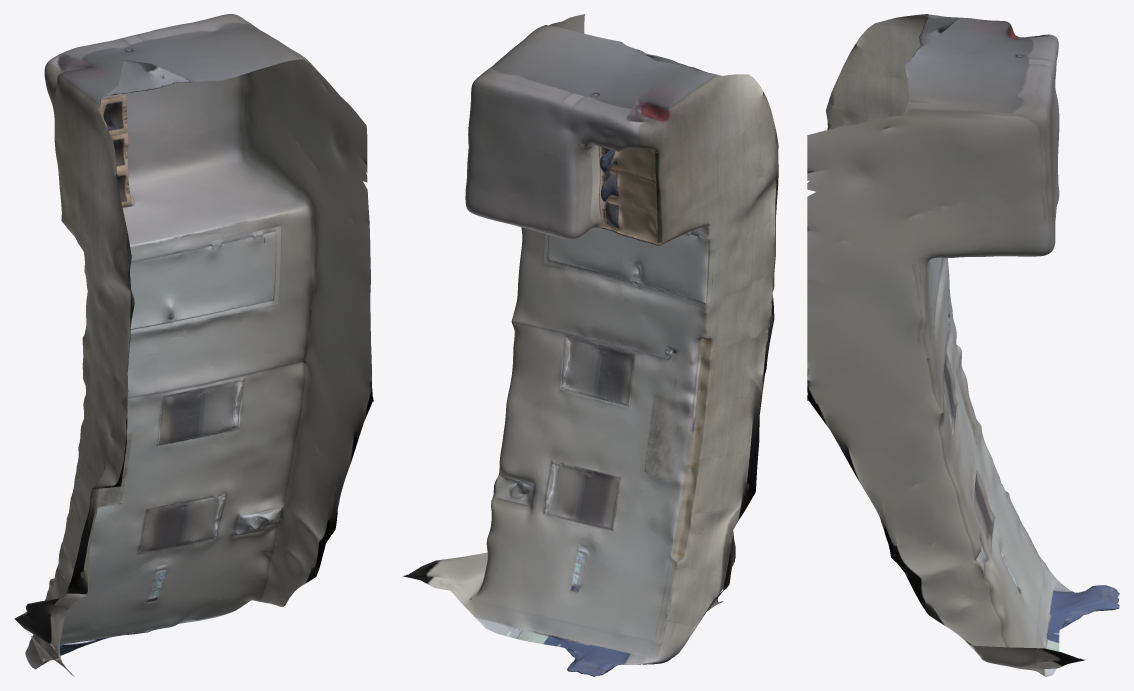
File: 엘베우측쓰레기통벽.fbx
The picture shows the model from 3 angles, left to right: view 1: azimuth 30°, elevation 25°; view 2: azimuth 150°, elevation 25°; view 3: azimuth 270°, elevation 25°; orthographic projection. The views are drawn at different scales.
Visible parts, largest first — view 1: Untitled; view 2: Untitled; view 3: Untitled.
Part boxes in pixels (x1,y1,x2,y2): Untitled: (14,14,373,676); Untitled: (402,14,778,676); Untitled: (807,14,1119,676).
Size of the model in its own units: 833 by 1608 by 768.
1 material, 1 textured.
